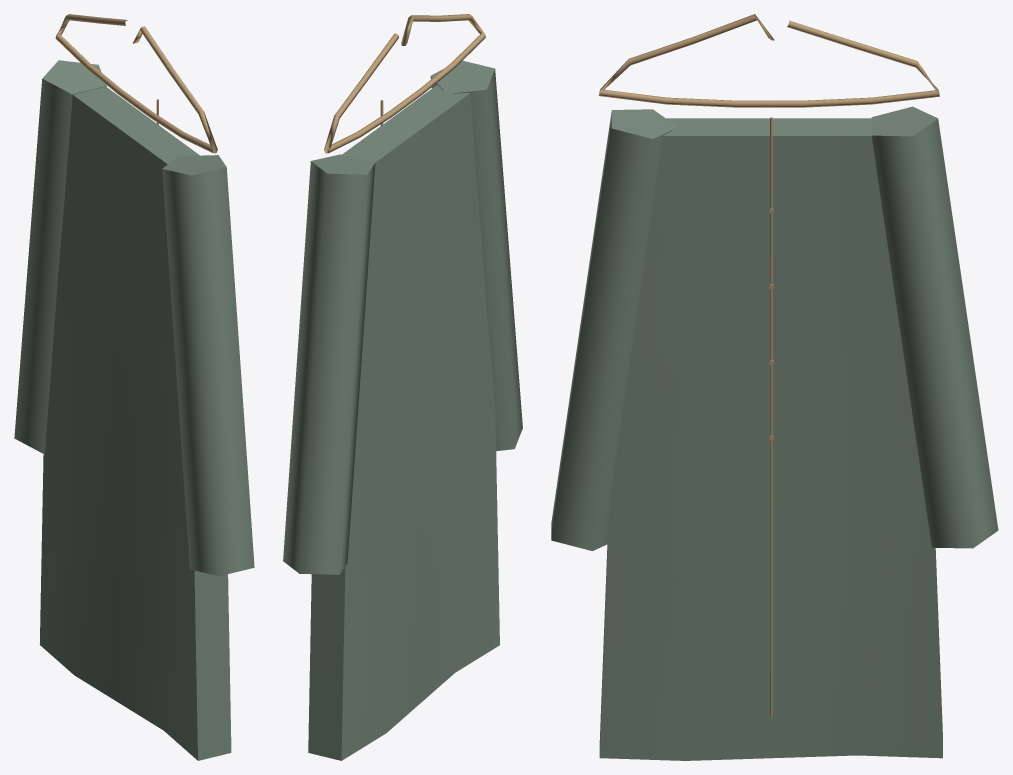
File: coat-lightweight-2fd8ac0e80.glb
The picture shows the model from 3 angles, left to right: view 1: azimuth 30°, elevation 25°; view 2: azimuth 150°, elevation 25°; view 3: azimuth 270°, elevation 25°; orthographic projection. The views are drawn at different scales.
Parts seen in each view (by area): view 1: sage, oak; view 2: sage, oak; view 3: sage, oak.
Part boxes in pixels (x1,y1,x2,y2): sage: [14, 60, 254, 760]; oak: [55, 14, 217, 153]; sage: [283, 60, 522, 760]; oak: [324, 14, 485, 153]; sage: [551, 106, 998, 760]; oak: [598, 14, 939, 716].
Size of the model in its own units: 0.0761 by 0.8741 by 0.4817.
